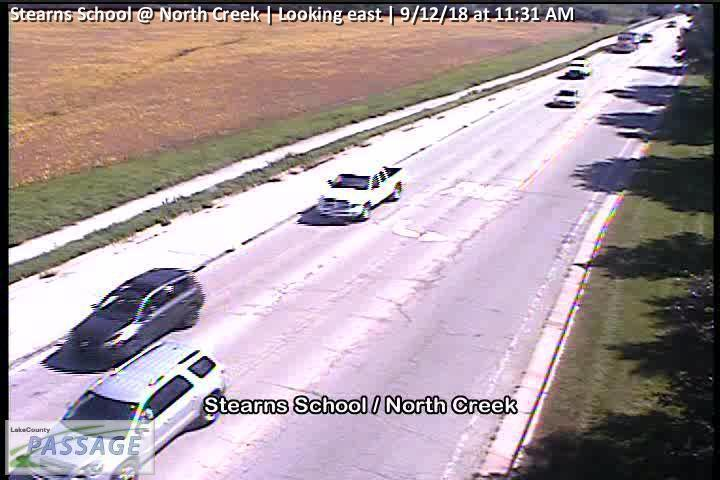SUV: (10, 340, 226, 480), (60, 268, 205, 365), (567, 57, 593, 77)
Sedan: (554, 90, 580, 107), (642, 33, 653, 43)
Truck: (319, 162, 406, 219), (613, 32, 640, 51)
